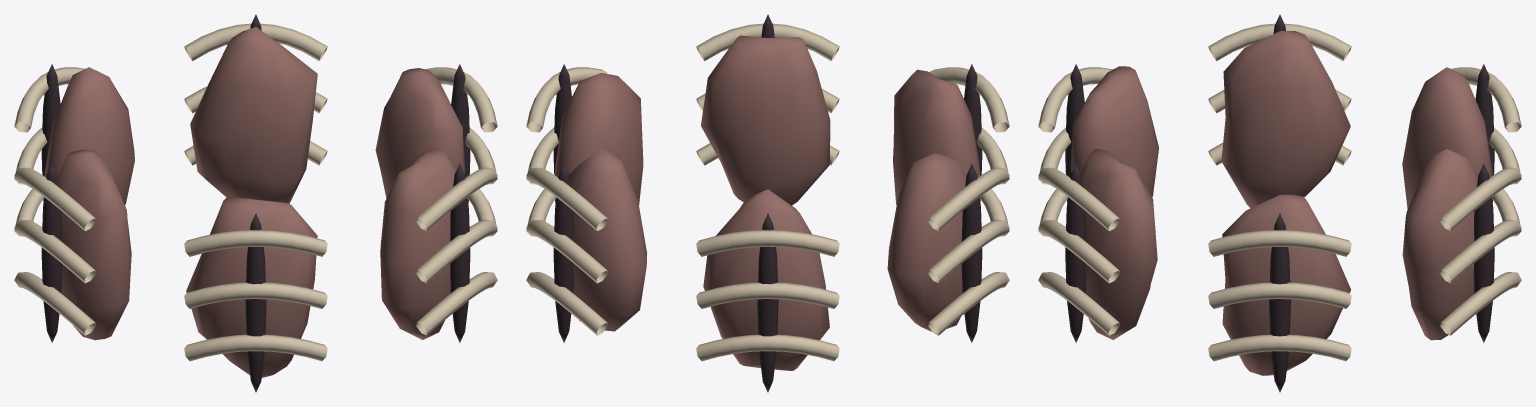
File: v2_flesh_shield.glb
3 renders of one model, left to right at view 1: azimuth 30°, elevation 25°; view 2: azimuth 150°, elevation 25°; view 3: azimuth 270°, elevation 25°, orthographic.
Visible parts, largest first — view 1: flesh_plate_1, flesh_plate_4, flesh_plate_5, flesh_plate_3, flesh_plate_2, flesh_plate_0; view 2: flesh_plate_5, flesh_plate_2, flesh_plate_1, flesh_plate_3, flesh_plate_4, flesh_plate_0; view 3: flesh_plate_3, flesh_plate_0, flesh_plate_1, flesh_plate_5, flesh_plate_4, flesh_plate_2.
Part boxes in pixels (x1,y1,x2,y2): flesh_plate_1: (184,14,327,203); flesh_plate_4: (184,197,327,392); flesh_plate_5: (380,149,497,342); flesh_plate_3: (14,149,131,342); flesh_plate_2: (14,64,134,236); flesh_plate_0: (375,64,497,236); flesh_plate_5: (696,14,839,205); flesh_plate_2: (696,189,839,392); flesh_plate_1: (526,149,647,342); flesh_plate_3: (887,153,1009,342); flesh_plate_4: (893,64,1009,236); flesh_plate_0: (526,64,643,236); flesh_plate_3: (1208,14,1351,208); flesh_plate_0: (1208,194,1351,392); flesh_plate_1: (1402,149,1521,342); flesh_plate_5: (1038,148,1157,342); flesh_plate_4: (1038,64,1158,236); flesh_plate_2: (1402,64,1521,236).
Size of the model in its own units: 2.55 by 1.07 by 2.43.
